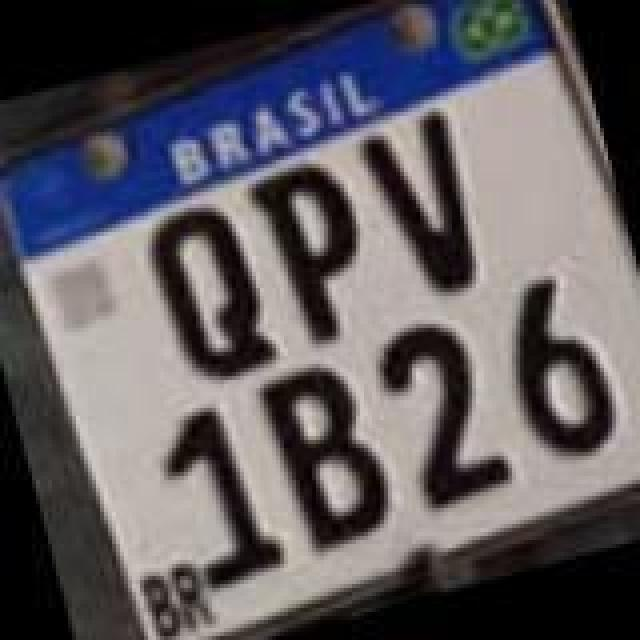1: (142, 396, 290, 596)
2: (366, 308, 522, 516)
6: (492, 264, 628, 464)
B: (254, 348, 402, 556)
P: (250, 152, 390, 352)
Q: (134, 186, 290, 390)
V: (352, 106, 496, 310)
